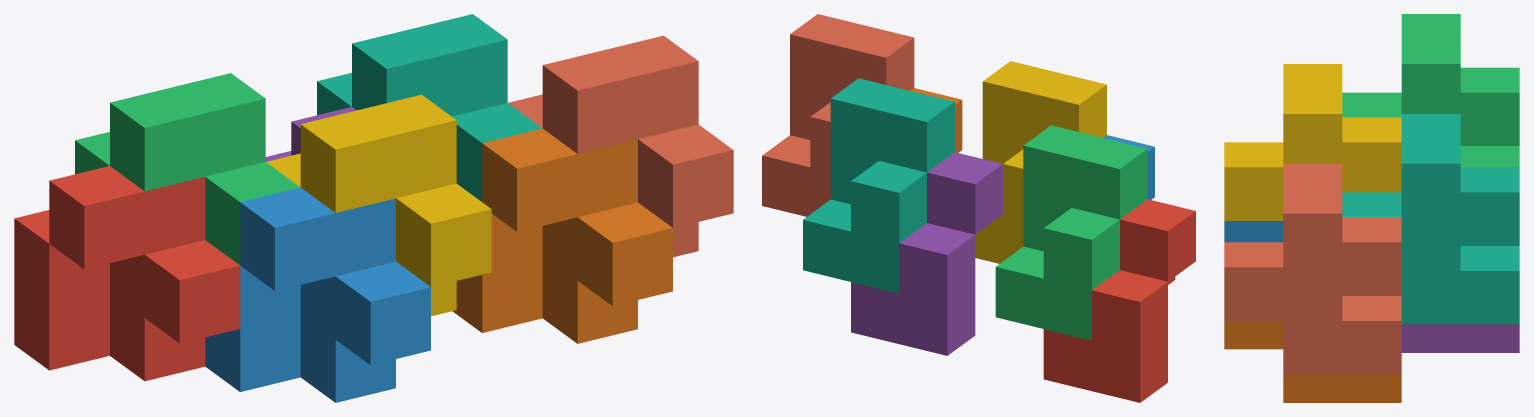
The model's file is tiling.obj.
3 views of the same model, side by side, from view 1: azimuth 30°, elevation 25°; view 2: azimuth 150°, elevation 25°; view 3: azimuth 270°, elevation 25° (orthographic). The views are drawn at different scales.
Parts seen in each view (by area): view 1: copy_1_domain_1, copy_1_domain_2, copy_1_domain_6, copy_1_domain_4, copy_1_domain_8, copy_1_domain_3, copy_1_domain_7, copy_1_domain_5; view 2: copy_1_domain_3, copy_1_domain_7, copy_1_domain_5, copy_1_domain_1, copy_1_domain_8, copy_1_domain_4, copy_1_domain_6, copy_1_domain_2; view 3: copy_1_domain_8, copy_1_domain_7, copy_1_domain_4, copy_1_domain_3, copy_1_domain_6, copy_1_domain_5, copy_1_domain_2.
Part boxes in pixels (x1,y1,x2,y2): copy_1_domain_1: (14, 166, 240, 381); copy_1_domain_2: (205, 187, 430, 402); copy_1_domain_6: (452, 128, 672, 343); copy_1_domain_4: (266, 94, 491, 316); copy_1_domain_8: (508, 35, 733, 257); copy_1_domain_3: (75, 73, 300, 265); copy_1_domain_7: (317, 14, 542, 201); copy_1_domain_5: (265, 107, 356, 161); copy_1_domain_3: (995, 125, 1147, 340); copy_1_domain_7: (803, 78, 954, 293); copy_1_domain_5: (851, 152, 1002, 355); copy_1_domain_1: (1043, 199, 1195, 402); copy_1_domain_8: (762, 14, 914, 216); copy_1_domain_4: (975, 61, 1106, 263); copy_1_domain_6: (910, 88, 962, 152); copy_1_domain_2: (1103, 135, 1154, 199); copy_1_domain_8: (1224, 163, 1401, 374); copy_1_domain_7: (1342, 114, 1519, 324); copy_1_domain_4: (1224, 64, 1401, 220); copy_1_domain_3: (1342, 14, 1519, 167); copy_1_domain_6: (1224, 321, 1401, 402); copy_1_domain_5: (1401, 324, 1519, 352); copy_1_domain_2: (1224, 221, 1283, 242).
Bounding box in the file's own units: 9 × 4 × 5.
